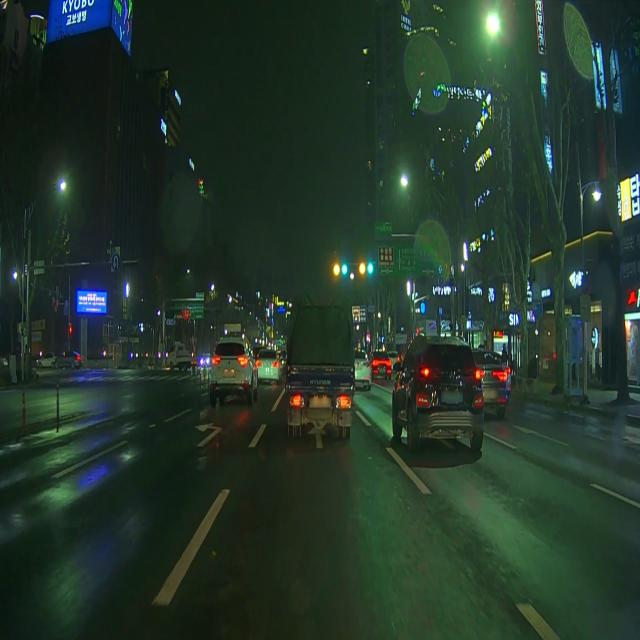Green Light: (366, 263, 374, 275), (342, 264, 348, 276)
Yellow Light: (359, 262, 366, 276), (333, 264, 340, 276)
